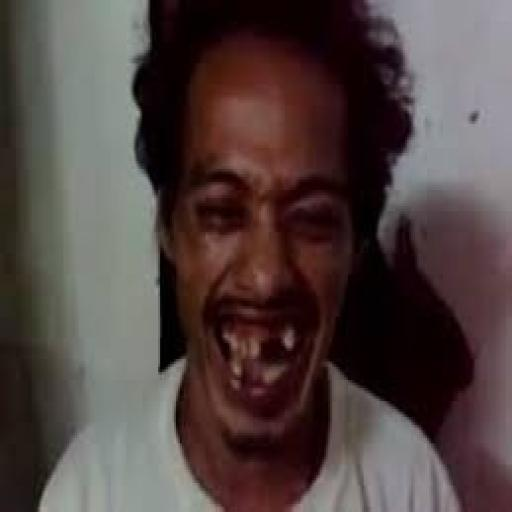laughing: (25, 0, 488, 509)
